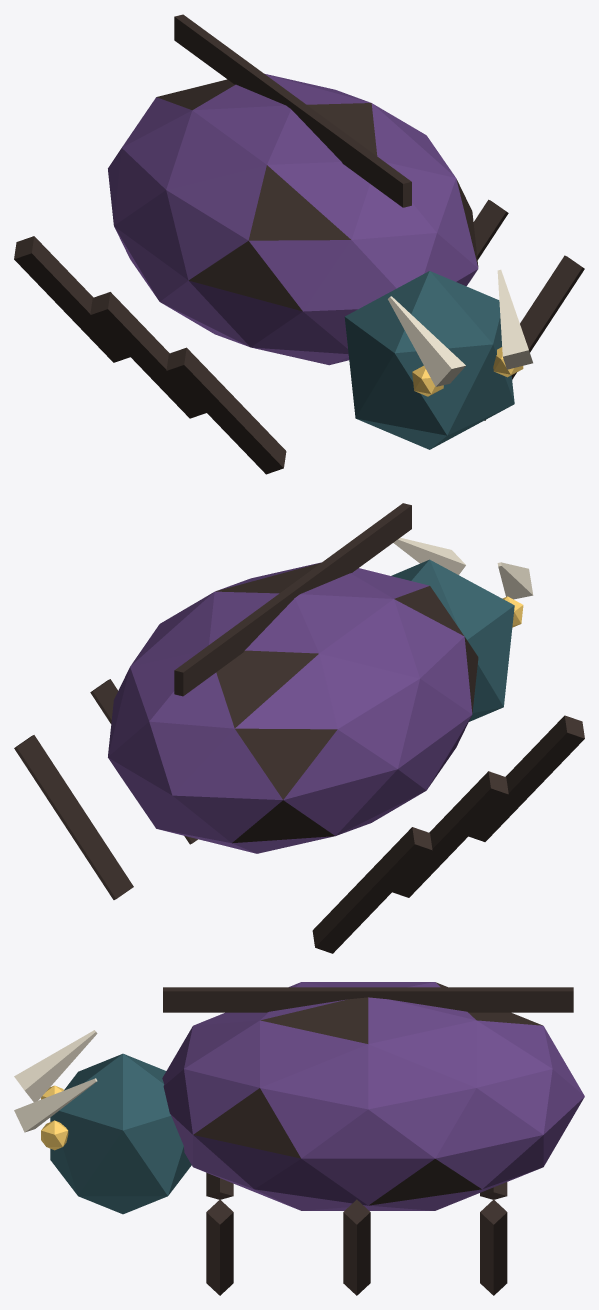
Rendered from Cattlebug.fbx.
The picture shows the model from 3 angles, top to bottom: view 1: azimuth 30°, elevation 25°; view 2: azimuth 150°, elevation 25°; view 3: azimuth 270°, elevation 25°; orthographic projection. The views are drawn at different scales.
Parts seen in each view (by area): view 1: Cattlebug; view 2: Cattlebug; view 3: Cattlebug.
Part boxes in pixels (x1=…): Cattlebug: x1=14, y1=14, x2=584, y2=474; Cattlebug: x1=14, y1=503, x2=584, y2=953; Cattlebug: x1=14, y1=982, x2=584, y2=1295.
Bounding box in the file's own units: 3.8 × 2.5 × 5.
